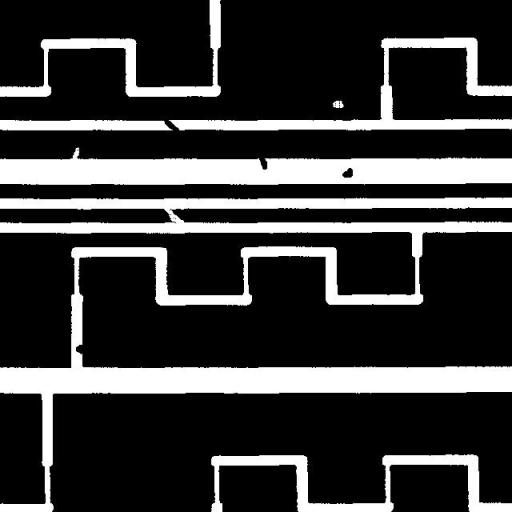copper: (334, 160, 360, 185)
mousebite: (62, 139, 86, 169)
open: (155, 196, 191, 233)
pin-hole: (325, 93, 351, 115)
short: (156, 110, 186, 142)
spur: (68, 337, 96, 362), (252, 149, 274, 177)
